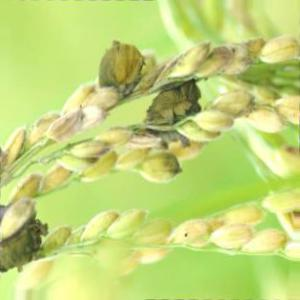Leaf_Scald: (143, 80, 202, 128), (98, 38, 142, 102), (0, 213, 52, 267)
